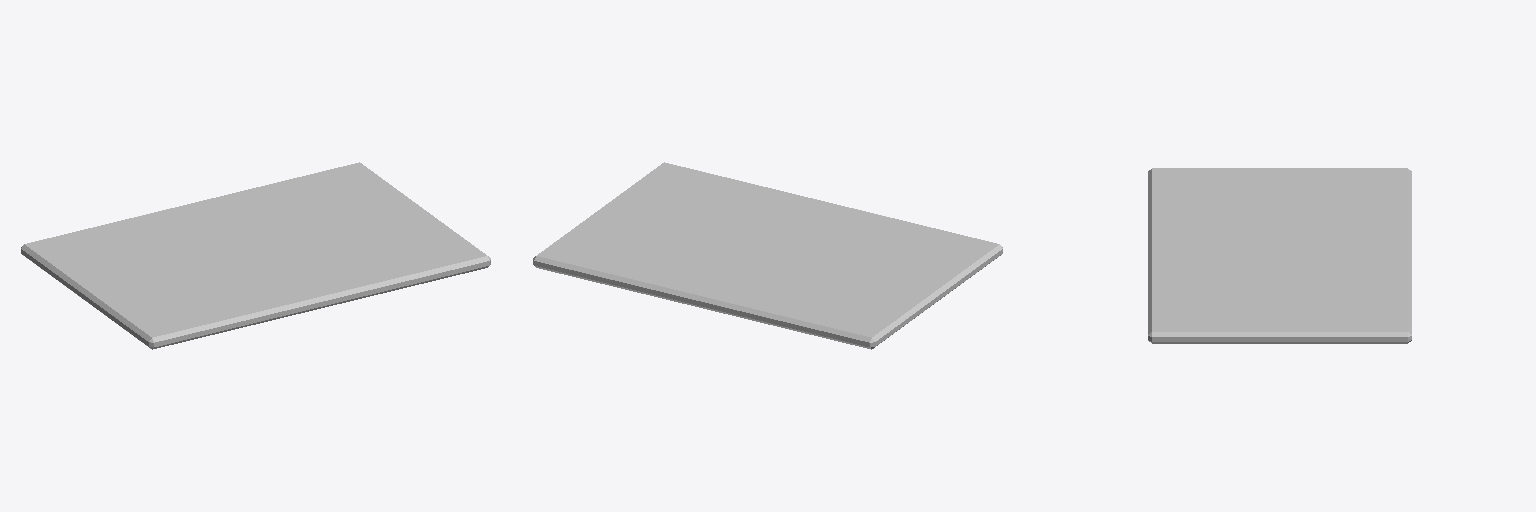
Rendered from rug_rectangle_stripes_A.obj.
The picture shows the model from 3 angles: view 1: azimuth 30°, elevation 25°; view 2: azimuth 150°, elevation 25°; view 3: azimuth 270°, elevation 25°; orthographic projection.
Parts seen in each view (by area): view 1: rug_rectangle_stripes_A_Cube.022; view 2: rug_rectangle_stripes_A_Cube.022; view 3: rug_rectangle_stripes_A_Cube.022.
Part boxes in pixels (bbox=[...]): rug_rectangle_stripes_A_Cube.022: bbox=[21, 162, 490, 349]; rug_rectangle_stripes_A_Cube.022: bbox=[533, 162, 1002, 349]; rug_rectangle_stripes_A_Cube.022: bbox=[1148, 168, 1411, 343].
Bounding box in the file's own units: 3 × 0.1 × 2.